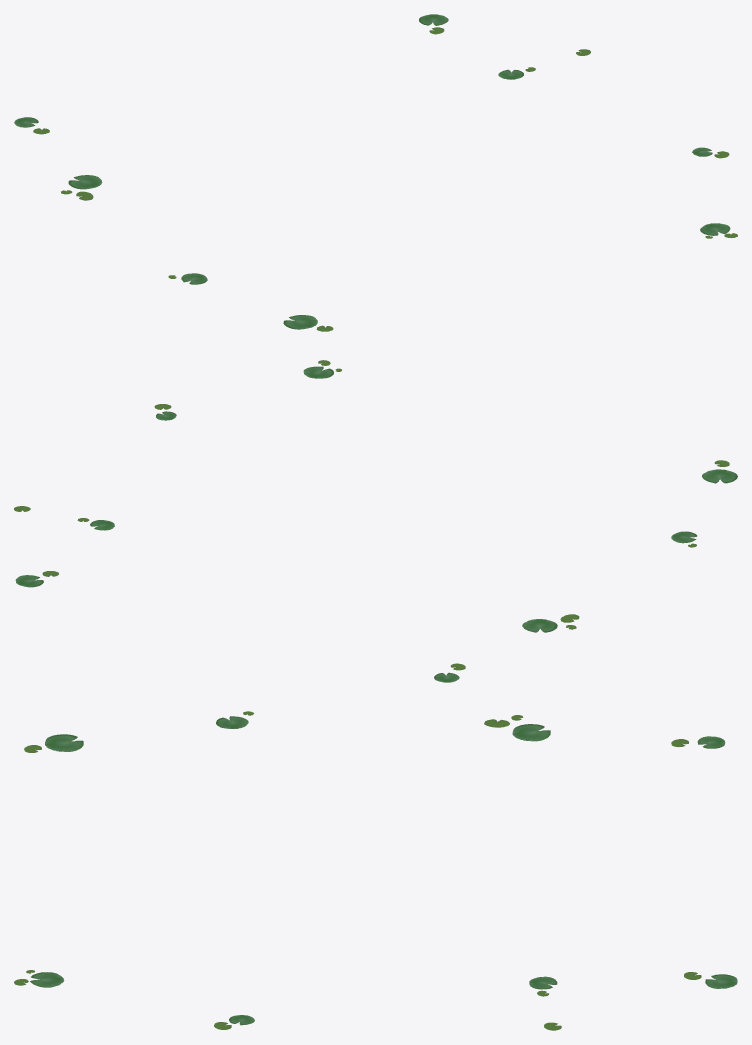
Rendered from pref_sm_beach_bk_pointmol_grassplant04b_lv1.fbx.
3 renders of one model, top to bottom at view 1: azimuth 30°, elevation 25°; view 2: azimuth 150°, elevation 25°; view 3: azimuth 270°, elevation 25°, orthographic. The views are drawn at different scales.
Parts seen in each view (by area): view 1: pref_sm_beach_bk_pointmol_grassplant04b_lv1; view 2: pref_sm_beach_bk_pointmol_grassplant04b_lv1; view 3: pref_sm_beach_bk_pointmol_grassplant04b_lv1.
Boxes of the visible parts, bbox=[...] form: pref_sm_beach_bk_pointmol_grassplant04b_lv1: bbox=[14, 14, 737, 331]; pref_sm_beach_bk_pointmol_grassplant04b_lv1: bbox=[14, 360, 737, 682]; pref_sm_beach_bk_pointmol_grassplant04b_lv1: bbox=[14, 711, 737, 1030].
Bounding box in the file's own units: 33.74 × 0.0968 × 32.47.
